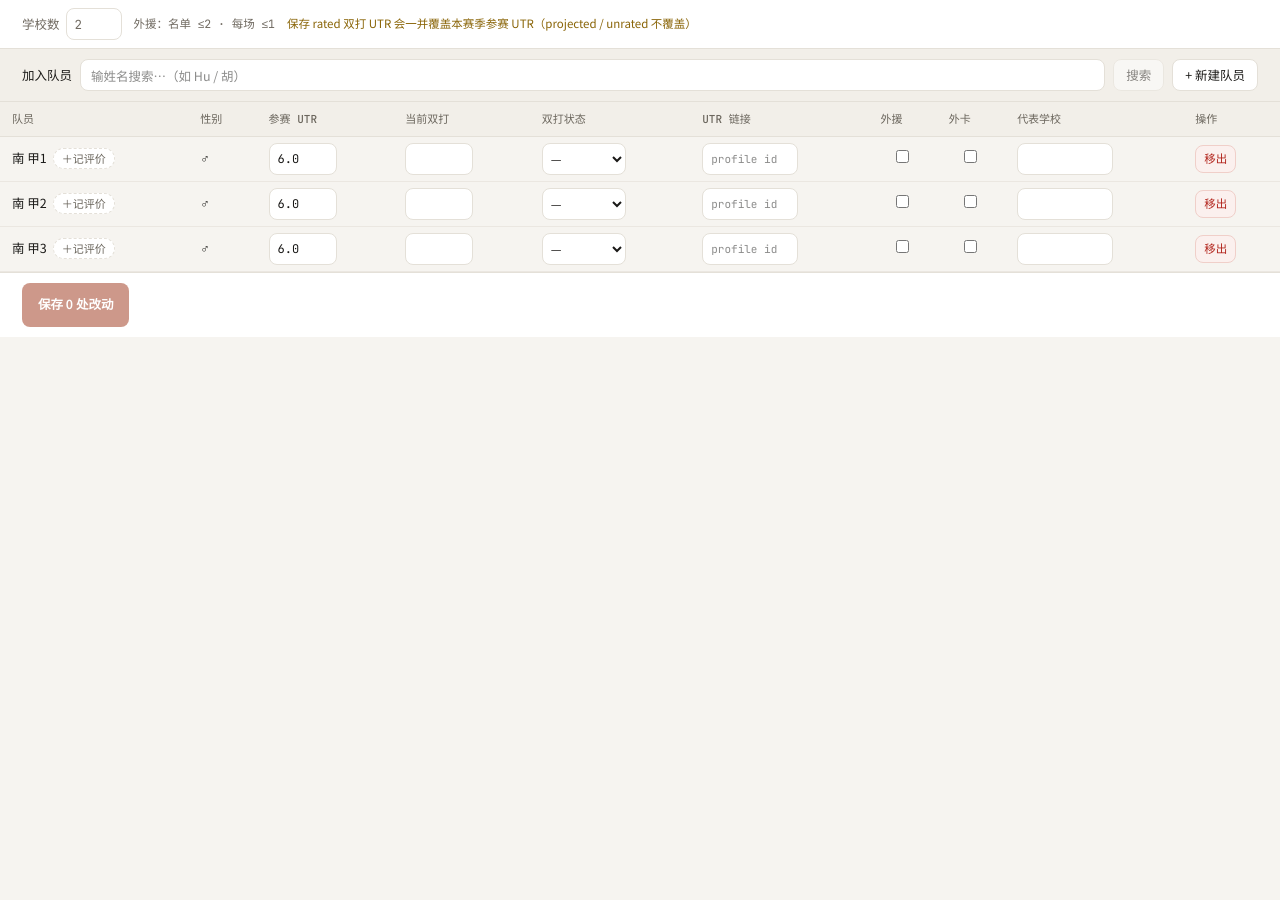
Scenario: TeamEditPanel — notes editing › edit mode: a note-less player shows a 记评价 entry that opens an editable popover
The width and height of the screenshot is (1280, 900).
Click the button "＋记评价" next to "南 甲1" at (84, 159), box [53,148,115,169]
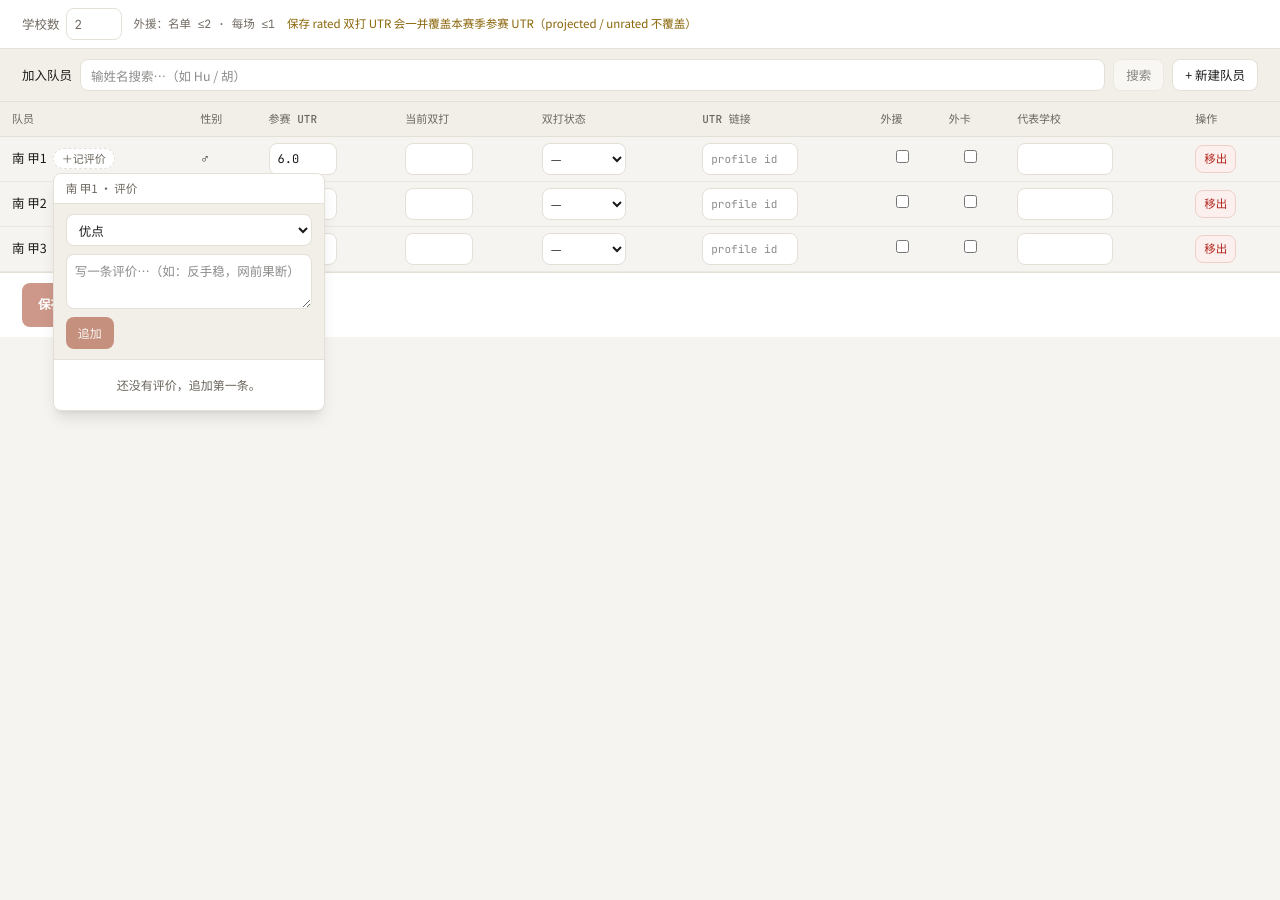
Expected: the text box named "评价内容" is shown, [66,254,312,309]
